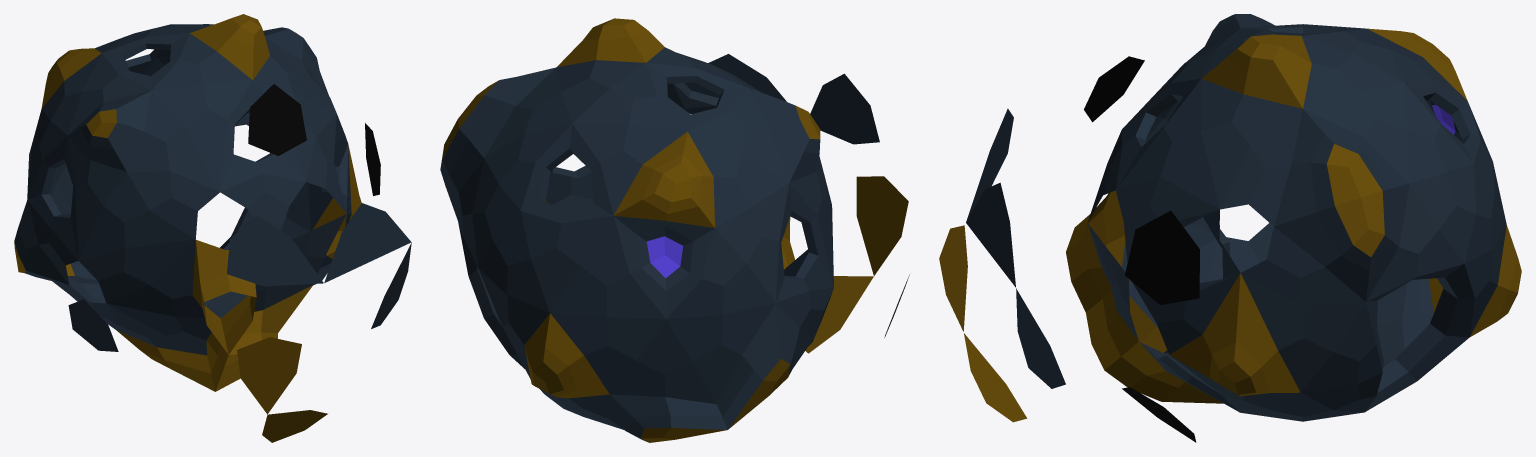
Rendered from Planet3Dest4.glb.
3 views of the same model, side by side, from view 1: azimuth 30°, elevation 25°; view 2: azimuth 150°, elevation 25°; view 3: azimuth 270°, elevation 25° (orthographic). The views are drawn at different scales.
Visible parts, largest first — view 1: Icosphere.069; view 2: Icosphere.069; view 3: Icosphere.069.
Part boxes in pixels (x1=…): Icosphere.069: x1=14, y1=14, x2=411, y2=442; Icosphere.069: x1=440, y1=18, x2=909, y2=442; Icosphere.069: x1=939, y1=14, x2=1521, y2=442.
Bounding box in the file's own units: 1.98 × 2.01 × 2.53.
